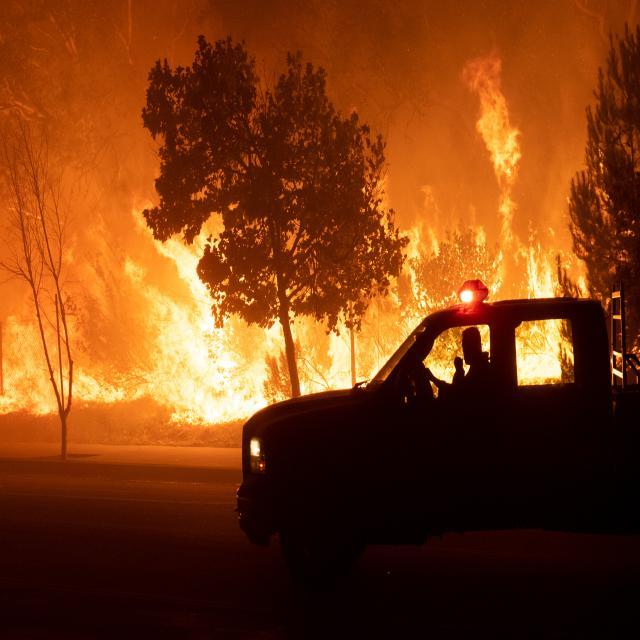Smoke: (452, 36, 536, 245), (395, 179, 456, 259)
